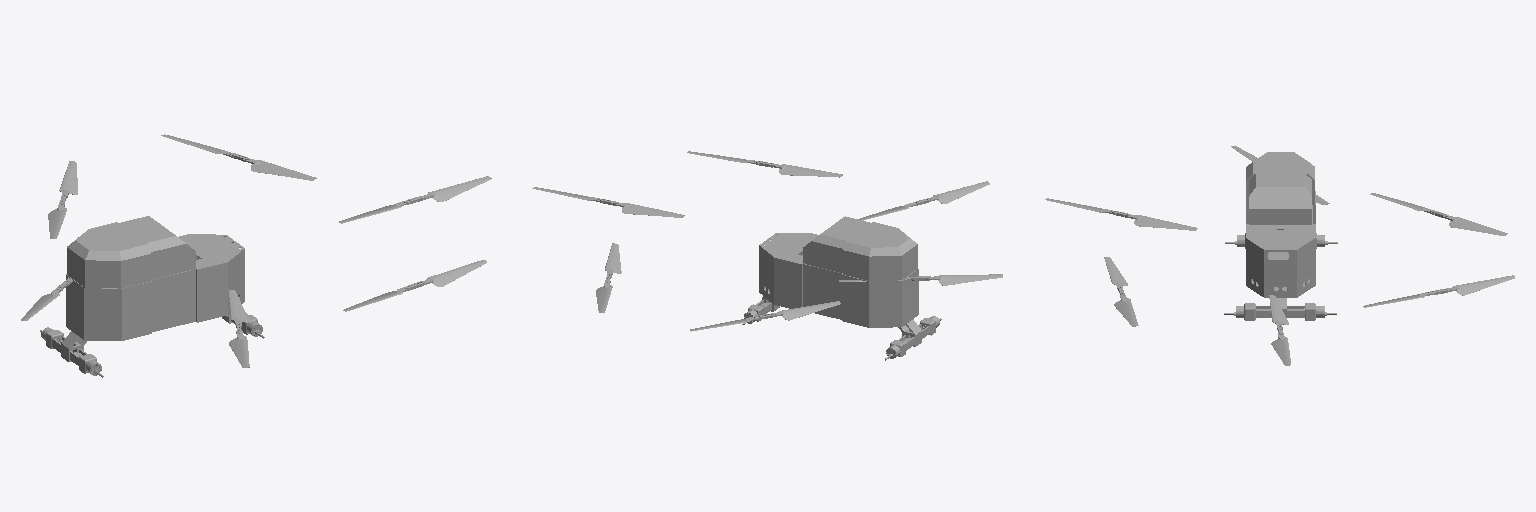
robot.urdf — chb:
<?xml version="1.0" encoding="utf-8"?>
<!-- This URDF was automatically created by SolidWorks to URDF Exporter! Originally created by [author] ([email redacted]) 
     Commit Version: 1.5.1-0-g916b5db  Build Version: 1.5.7152.31018
     For more information, please see http://wiki.ros.org/sw_urdf_exporter -->
<robot
  name="chb">
  <link
    name="base_link">
    <inertial>
      <origin
        xyz="-2.51131778050695E-06 2.3701062435072E-05 0.090044016736883"
        rpy="0 0 0" />
      <mass
        value="13.3143923173836" />
      <inertia
        ixx="0.0758221408842947"
        ixy="-0.000447442832802398"
        ixz="4.22047700266866E-06"
        iyy="0.0492573043386004"
        iyz="-4.80952423170939E-05"
        izz="0.0987482877800918" />
    </inertial>
    <visual>
      <origin
        xyz="0 0 0"
        rpy="0 0 0" />
      <geometry>
        <mesh
          filename="package://chb/meshes/base_link.STL" />
      </geometry>
      <material
        name="">
        <color
          rgba="0.698039215686274 0.698039215686274 0.698039215686274 1" />
      </material>
    </visual>
    <collision>
      <origin
        xyz="0 0 0"
        rpy="0 0 0" />
      <geometry>
        <mesh
          filename="package://chb/meshes/base_link.STL" />
      </geometry>
    </collision>
  </link>
  <link
    name="a">
    <inertial>
      <origin
        xyz="-0.000261077451723324 0.0120920473358308 1.4898477148334E-05"
        rpy="0 0 0" />
      <mass
        value="0.0370533673373344" />
      <inertia
        ixx="0.000103955698057432"
        ixy="-2.55907136878979E-08"
        ixz="-1.02306945637097E-05"
        iyy="0.000107226899970898"
        iyz="-4.73247445611881E-08"
        izz="3.69855930008221E-06" />
    </inertial>
    <visual>
      <origin
        xyz="0 0 0"
        rpy="0 0 0" />
      <geometry>
        <mesh
          filename="package://chb/meshes/a.STL" />
      </geometry>
      <material
        name="">
        <color
          rgba="0.698039215686274 0.698039215686274 0.698039215686274 1" />
      </material>
    </visual>
    <collision>
      <origin
        xyz="0 0 0"
        rpy="0 0 0" />
      <geometry>
        <mesh
          filename="package://chb/meshes/a.STL" />
      </geometry>
    </collision>
  </link>
  <joint
    name="aa"
    type="continuous">
    <origin
      xyz="0.27371 -0.47408 0.20981"
      rpy="1.5703 0.0092273 -1.4941" />
    <parent
      link="base_link" />
    <child
      link="a" />
    <axis
      xyz="0.0092269 -0.99996 -0.00045467" />
  </joint>
  <link
    name="b">
    <inertial>
      <origin
        xyz="-0.000261080674413272 0.0120922413433749 1.48985013541658E-05"
        rpy="0 0 0" />
      <mass
        value="0.0370526319212035" />
      <inertia
        ixx="0.000103960475795443"
        ixy="-2.55876547255612E-08"
        ixz="-1.02336127184337E-05"
        iyy="0.000107231487408662"
        iyz="-4.73493771136596E-08"
        izz="3.69813174012882E-06" />
    </inertial>
    <visual>
      <origin
        xyz="0 0 0"
        rpy="0 0 0" />
      <geometry>
        <mesh
          filename="package://chb/meshes/b.STL" />
      </geometry>
      <material
        name="">
        <color
          rgba="0.698039215686274 0.698039215686274 0.698039215686274 1" />
      </material>
    </visual>
    <collision>
      <origin
        xyz="0 0 0"
        rpy="0 0 0" />
      <geometry>
        <mesh
          filename="package://chb/meshes/b.STL" />
      </geometry>
    </collision>
  </link>
  <joint
    name="bb"
    type="continuous">
    <origin
      xyz="-0.27371 -0.47408 0.20981"
      rpy="1.5703 0.0092265 -0.54139" />
    <parent
      link="base_link" />
    <child
      link="b" />
    <axis
      xyz="0.0092269 -0.99996 -0.00045467" />
  </joint>
  <link
    name="c">
    <inertial>
      <origin
        xyz="-0.000261081362259441 0.0120922663154713 1.48985359315068E-05"
        rpy="0 0 0" />
      <mass
        value="0.0370523979307435" />
      <inertia
        ixx="0.000103961714280872"
        ixy="-2.55880349888278E-08"
        ixz="-1.02341949749603E-05"
        iyy="0.000107232795800358"
        iyz="-4.73541777015392E-08"
        izz="3.69818374121027E-06" />
    </inertial>
    <visual>
      <origin
        xyz="0 0 0"
        rpy="0 0 0" />
      <geometry>
        <mesh
          filename="package://chb/meshes/c.STL" />
      </geometry>
      <material
        name="">
        <color
          rgba="0.698039215686274 0.698039215686274 0.698039215686274 1" />
      </material>
    </visual>
    <collision>
      <origin
        xyz="0 0 0"
        rpy="0 0 0" />
      <geometry>
        <mesh
          filename="package://chb/meshes/c.STL" />
      </geometry>
    </collision>
  </link>
  <joint
    name="cc"
    type="continuous">
    <origin
      xyz="-0.54742 0 0.20981"
      rpy="1.5703 0.0092265 -1.069" />
    <parent
      link="base_link" />
    <child
      link="c" />
    <axis
      xyz="0.0092269 -0.99996 -0.00045467" />
  </joint>
  <link
    name="d">
    <inertial>
      <origin
        xyz="-0.000261081317301404 0.012092272726992 1.48985204898311E-05"
        rpy="0 0 0" />
      <mass
        value="0.0370524515753631" />
      <inertia
        ixx="0.000103960958148909"
        ixy="-2.55878181134556E-08"
        ixz="-1.02338608257882E-05"
        iyy="0.000107231999714097"
        iyz="-4.73514404760354E-08"
        izz="3.69815375885613E-06" />
    </inertial>
    <visual>
      <origin
        xyz="0 0 0"
        rpy="0 0 0" />
      <geometry>
        <mesh
          filename="package://chb/meshes/d.STL" />
      </geometry>
      <material
        name="">
        <color
          rgba="0.698039215686274 0.698039215686274 0.698039215686274 1" />
      </material>
    </visual>
    <collision>
      <origin
        xyz="0 0 0"
        rpy="0 0 0" />
      <geometry>
        <mesh
          filename="package://chb/meshes/d.STL" />
      </geometry>
    </collision>
  </link>
  <joint
    name="dd"
    type="continuous">
    <origin
      xyz="-0.27371 0.47408 0.20981"
      rpy="1.5703 0.0092272 -0.72565" />
    <parent
      link="base_link" />
    <child
      link="d" />
    <axis
      xyz="0.0092269 -0.99996 -0.00045467" />
  </joint>
  <link
    name="e">
    <inertial>
      <origin
        xyz="-0.000261080678025424 0.0120923460618673 1.48985432926185E-05"
        rpy="0 0 0" />
      <mass
        value="0.0370531297034318" />
      <inertia
        ixx="0.000103962499686898"
        ixy="-2.55866852295369E-08"
        ixz="-1.02338729723247E-05"
        iyy="0.000107233420414466"
        iyz="-4.73508536415418E-08"
        izz="3.69802419376664E-06" />
    </inertial>
    <visual>
      <origin
        xyz="0 0 0"
        rpy="0 0 0" />
      <geometry>
        <mesh
          filename="package://chb/meshes/e.STL" />
      </geometry>
      <material
        name="">
        <color
          rgba="0.698039215686274 0.698039215686274 0.698039215686274 1" />
      </material>
    </visual>
    <collision>
      <origin
        xyz="0 0 0"
        rpy="0 0 0" />
      <geometry>
        <mesh
          filename="package://chb/meshes/e.STL" />
      </geometry>
    </collision>
  </link>
  <joint
    name="ee"
    type="continuous">
    <origin
      xyz="0.27371 0.47408 0.20981"
      rpy="1.5703 0.0092267 -2.7959" />
    <parent
      link="base_link" />
    <child
      link="e" />
    <axis
      xyz="0.0092269 -0.99996 -0.00045467" />
  </joint>
  <link
    name="f">
    <inertial>
      <origin
        xyz="-0.000261076470459226 0.0120916983480309 1.48978622333679E-05"
        rpy="0 0 0" />
      <mass
        value="0.0370522416464019" />
      <inertia
        ixx="0.000103961423340224"
        ixy="-2.55943525243682E-08"
        ixz="-1.02318962449416E-05"
        iyy="0.000107233057390558"
        iyz="-4.73352772538473E-08"
        izz="3.69908776650226E-06" />
    </inertial>
    <visual>
      <origin
        xyz="0 0 0"
        rpy="0 0 0" />
      <geometry>
        <mesh
          filename="package://chb/meshes/f.STL" />
      </geometry>
      <material
        name="">
        <color
          rgba="0.698039215686274 0.698039215686274 0.698039215686274 1" />
      </material>
    </visual>
    <collision>
      <origin
        xyz="0 0 0"
        rpy="0 0 0" />
      <geometry>
        <mesh
          filename="package://chb/meshes/f.STL" />
      </geometry>
    </collision>
  </link>
  <joint
    name="ff"
    type="continuous">
    <origin
      xyz="0.54742 0 0.20981"
      rpy="1.5703 0.0092277 -1.5708" />
    <parent
      link="base_link" />
    <child
      link="f" />
    <axis
      xyz="0.0092269 -0.99996 -0.00045465" />
  </joint>
</robot>

--- Facts derived from the render (not from the file) ---
The picture shows the robot from 3 angles, left to right: view 1: azimuth 30°, elevation 25°; view 2: azimuth 150°, elevation 25°; view 3: azimuth 270°, elevation 25°; orthographic projection.
Robot: chb — 7 links, 6 joints (6 continuous); root link base_link; default pose: all joints at 0.
Links seen in each view (by area): view 1: base_link, f, a, e, b, d; view 2: base_link, d, f, a, b, e, c; view 3: base_link, e, b, d, f, a.
Boxes of the visible links, x1,y1,x2,y2 form: base_link: (40, 216, 264, 377); f: (339, 176, 491, 223); a: (343, 260, 486, 311); e: (161, 134, 316, 180); b: (228, 290, 249, 367); d: (48, 161, 77, 238); base_link: (742, 216, 941, 360); d: (690, 301, 840, 331); f: (532, 187, 684, 217); a: (687, 151, 842, 177); b: (858, 181, 989, 220); e: (596, 243, 621, 312); c: (839, 274, 1002, 285); base_link: (1224, 152, 1337, 320); e: (1363, 275, 1514, 307); b: (1045, 198, 1197, 230); d: (1370, 193, 1507, 235); f: (1269, 295, 1290, 365); a: (1104, 257, 1138, 326).
Size in the robot's own frame: 1.55 by 1.41 by 0.329 metres.
Meshes: 7 distinct files referenced, 7 mesh visuals loaded (7 binary STL).